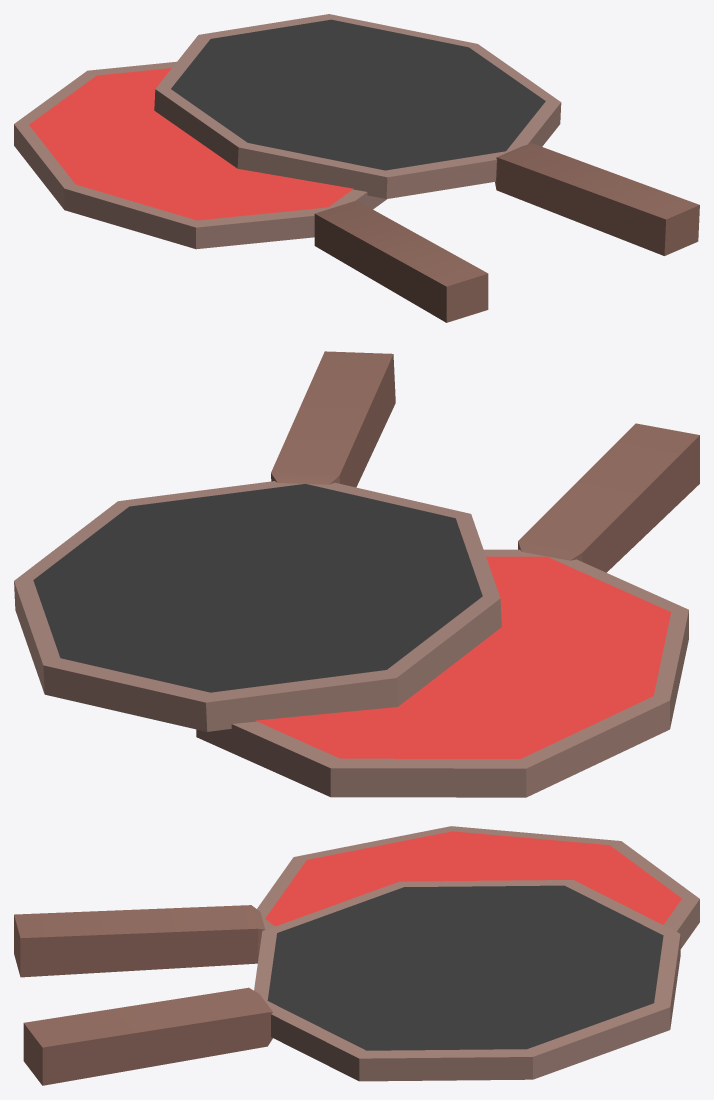
Rendered from toy_023.glb.
3 views of the same model, one above another, from view 1: azimuth 30°, elevation 25°; view 2: azimuth 150°, elevation 25°; view 3: azimuth 270°, elevation 25° (orthographic). The views are drawn at different scales.
Parts seen in each view (by area): view 1: toy_023; view 2: toy_023; view 3: toy_023.
Part boxes in pixels (x1,y1,x2,y2): toy_023: (14,14,699,322); toy_023: (14,351,699,797); toy_023: (14,826,699,1085).
Bounding box in the file's own units: 0.3118 × 0.0346 × 0.3772.
Materials: 1 (1 with a texture image).
